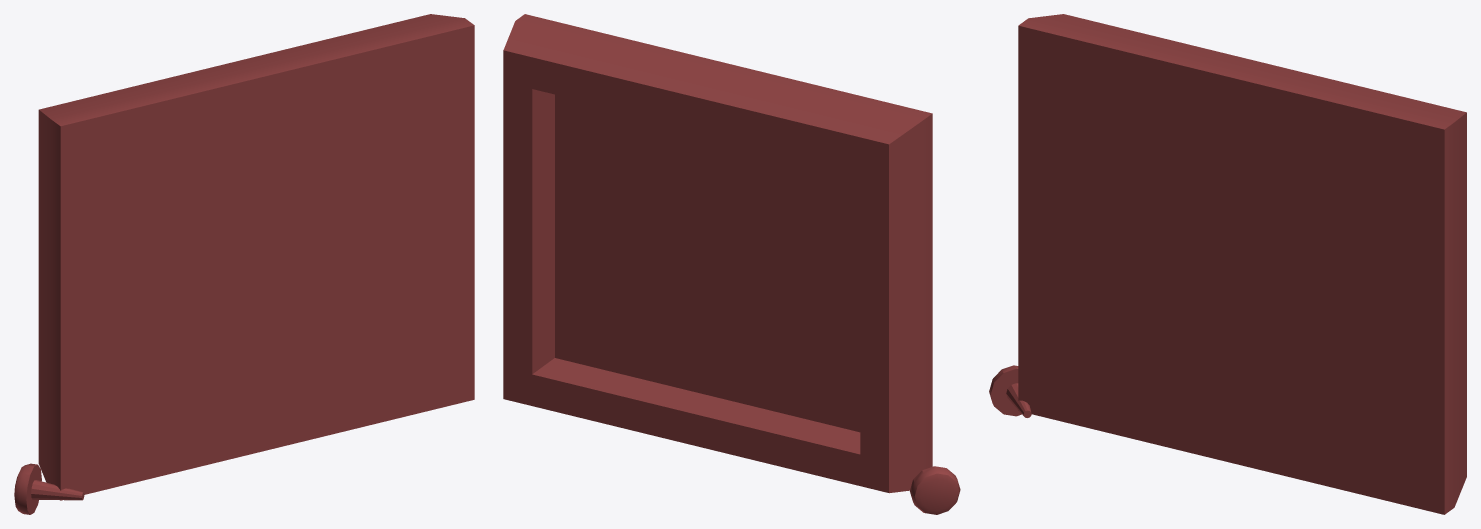
The model's file is Frame1.fbx.
3 views of the same model, side by side, from view 1: azimuth 30°, elevation 25°; view 2: azimuth 150°, elevation 25°; view 3: azimuth 330°, elevation 25° (orthographic). The views are drawn at different scales.
Visible parts, largest first — view 1: Frame1; view 2: Frame1; view 3: Frame1.
Boxes of the visible parts, bbox=[...] form: Frame1: bbox=[14, 14, 474, 514]; Frame1: bbox=[503, 14, 960, 514]; Frame1: bbox=[989, 14, 1466, 514].
Size of the model in its own units: 3.07 by 2.55 by 0.4839.
